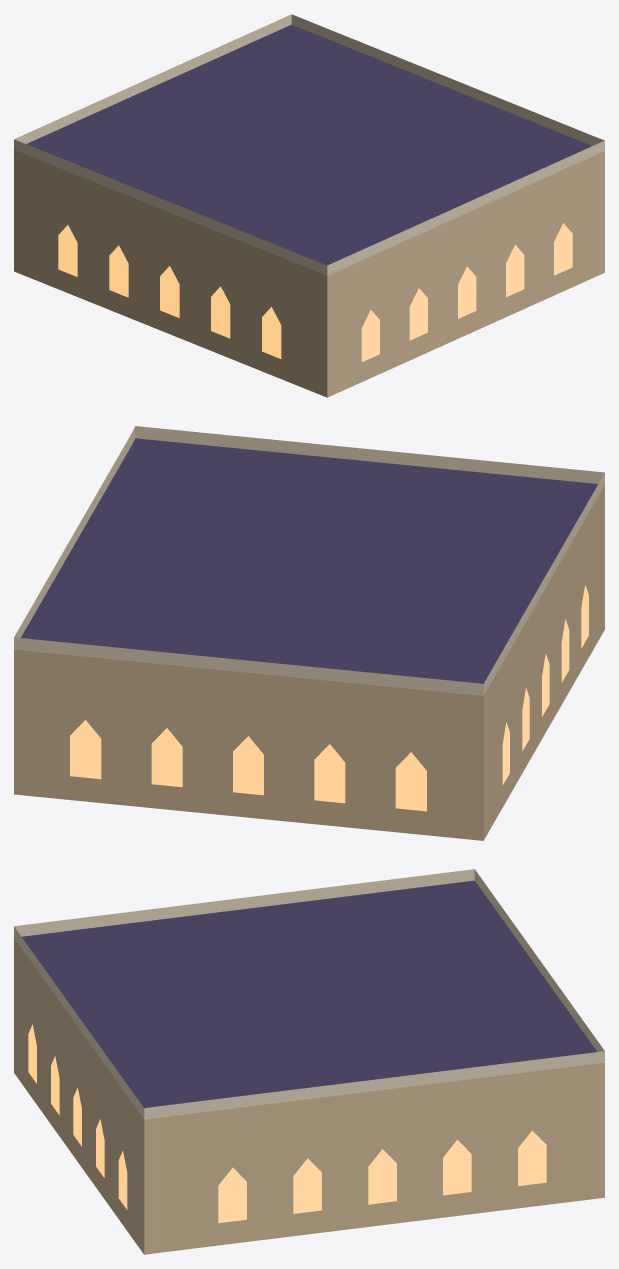
3 views of the same model, one above another, from view 1: azimuth 30°, elevation 25°; view 2: azimuth 150°, elevation 25°; view 3: azimuth 270°, elevation 25° (orthographic). The views are drawn at different scales.
Parts seen in each view (by area): view 1: campus/b-108-0; view 2: campus/b-108-0; view 3: campus/b-108-0.
Boxes of the visible parts, x1,y1,x2,y2 form: campus/b-108-0: (14, 14, 604, 397); campus/b-108-0: (14, 426, 604, 840); campus/b-108-0: (14, 869, 604, 1254).
Bounding box in the file's own units: 24.67 × 7.05 × 25.76.
